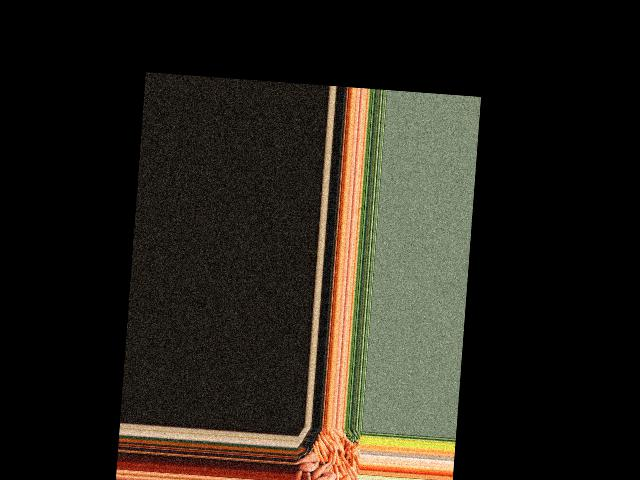carrot: (316, 440, 328, 463)
